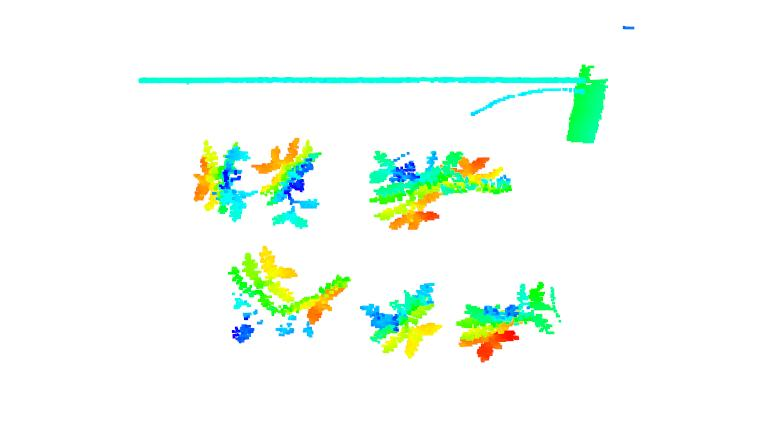chickpea: (455, 284, 563, 365), (251, 135, 322, 231), (366, 148, 443, 233), (359, 281, 443, 358), (191, 135, 258, 227), (226, 245, 299, 319), (281, 272, 355, 337), (431, 154, 514, 197)
